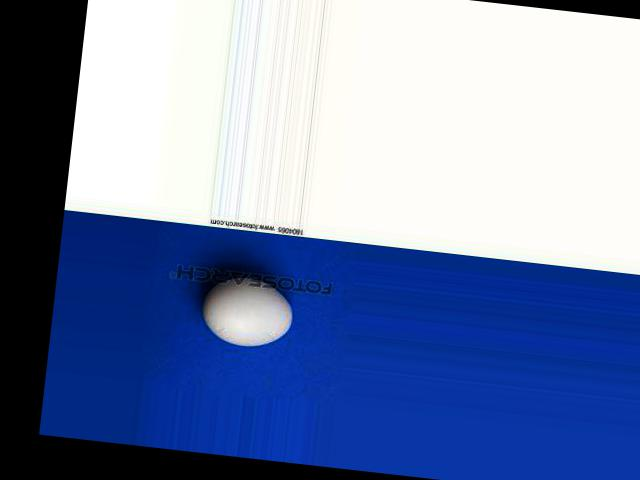egg: (199, 270, 296, 350)
